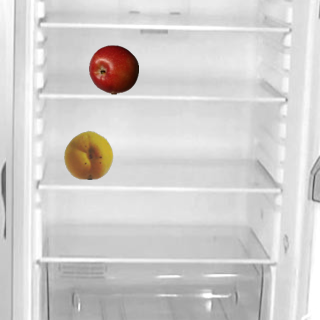Apple Braeburn: (88, 44, 138, 94)
Peach 2: (63, 129, 113, 179)
